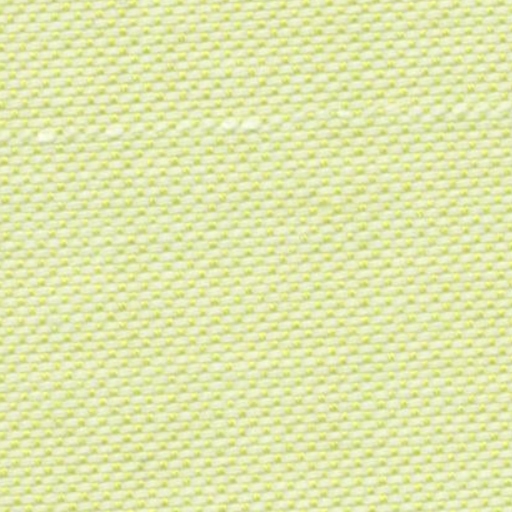TuoSha: (30, 86, 500, 158)
